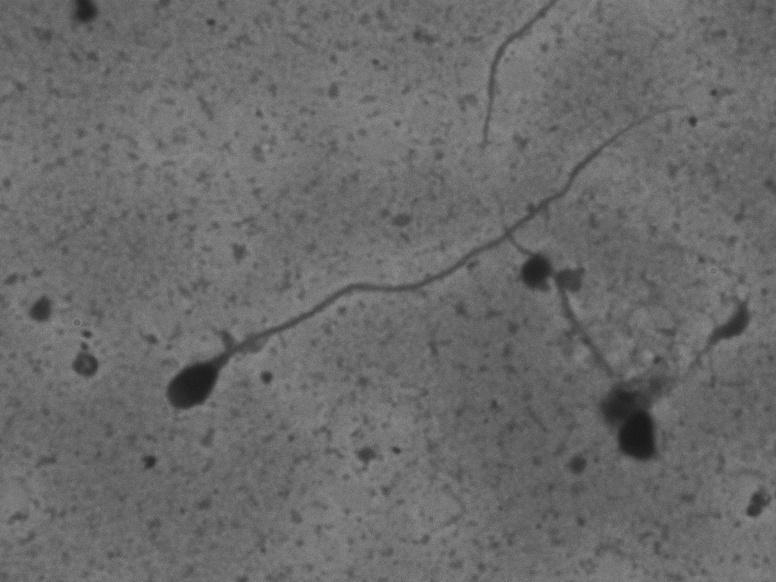Abnormal: (485, 218, 692, 504)
Normal: (147, 88, 699, 421)
